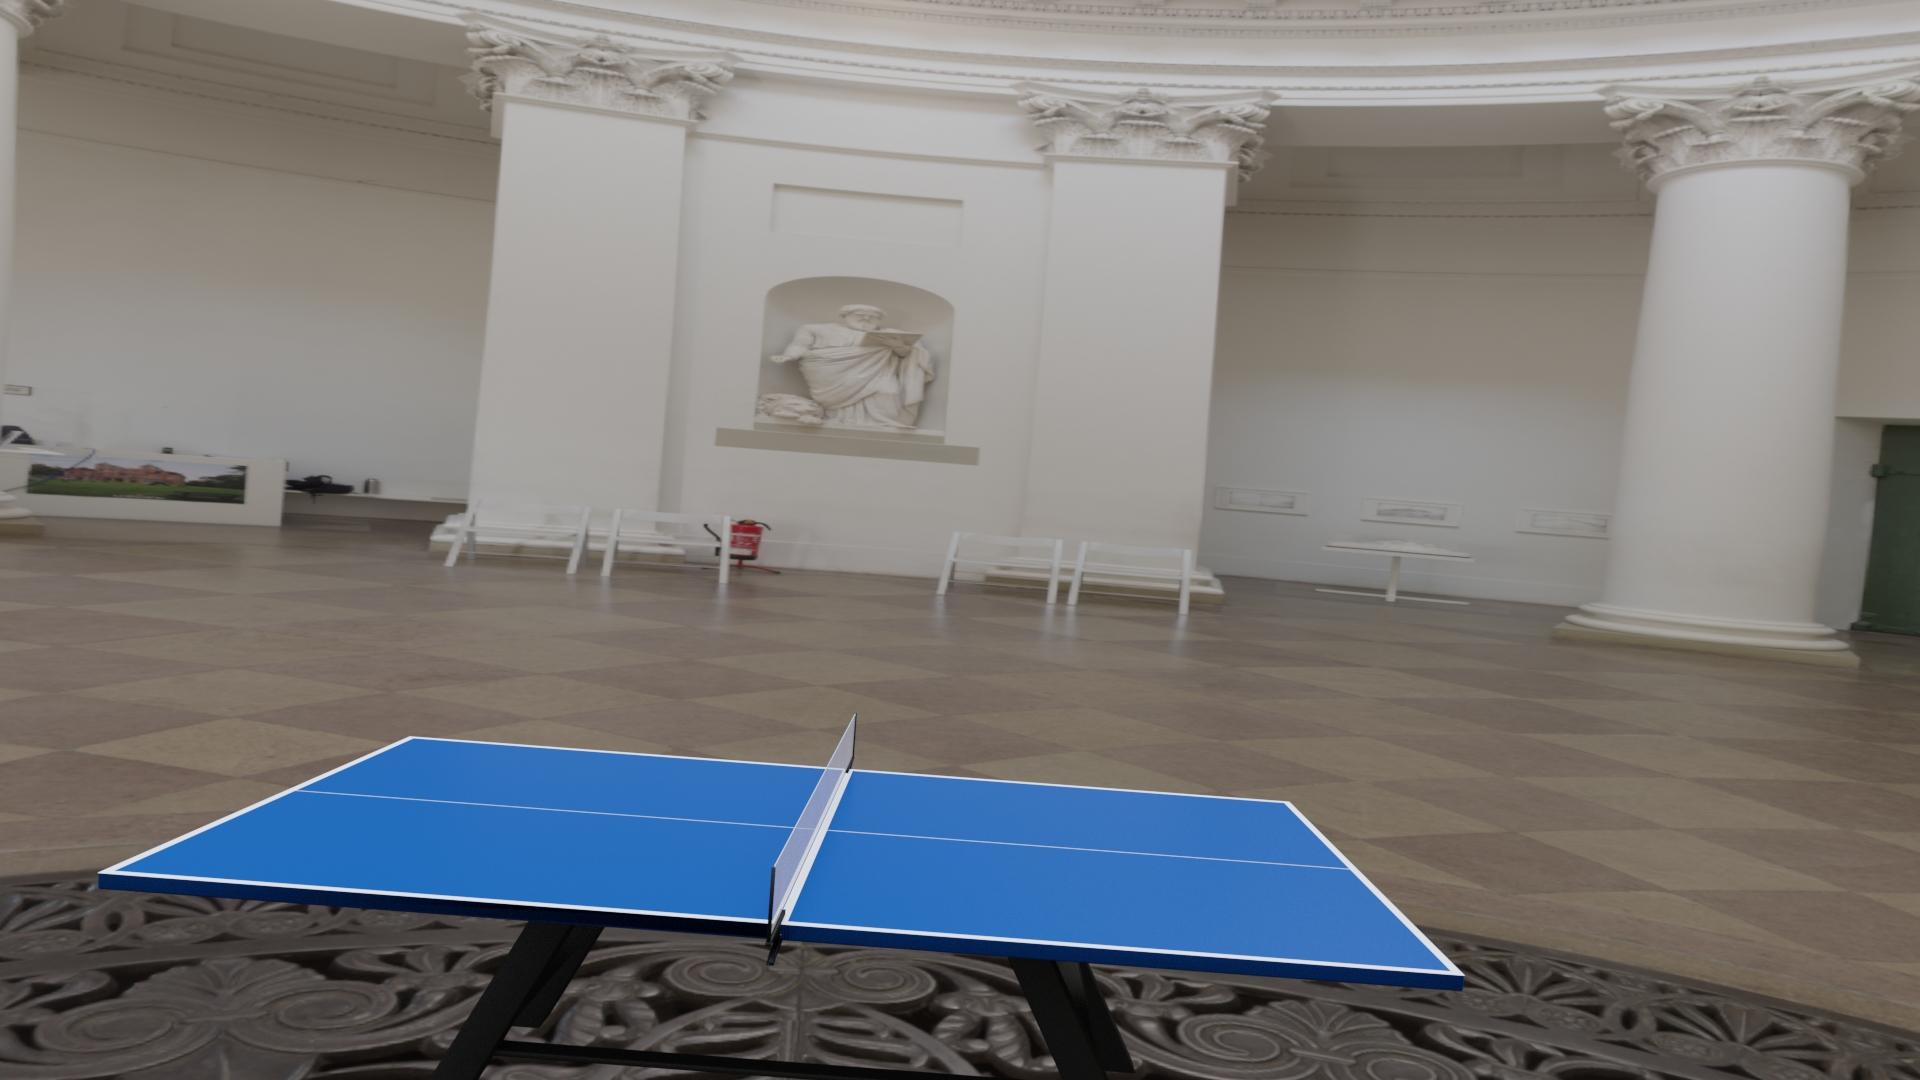table: (113, 738, 1452, 972)
